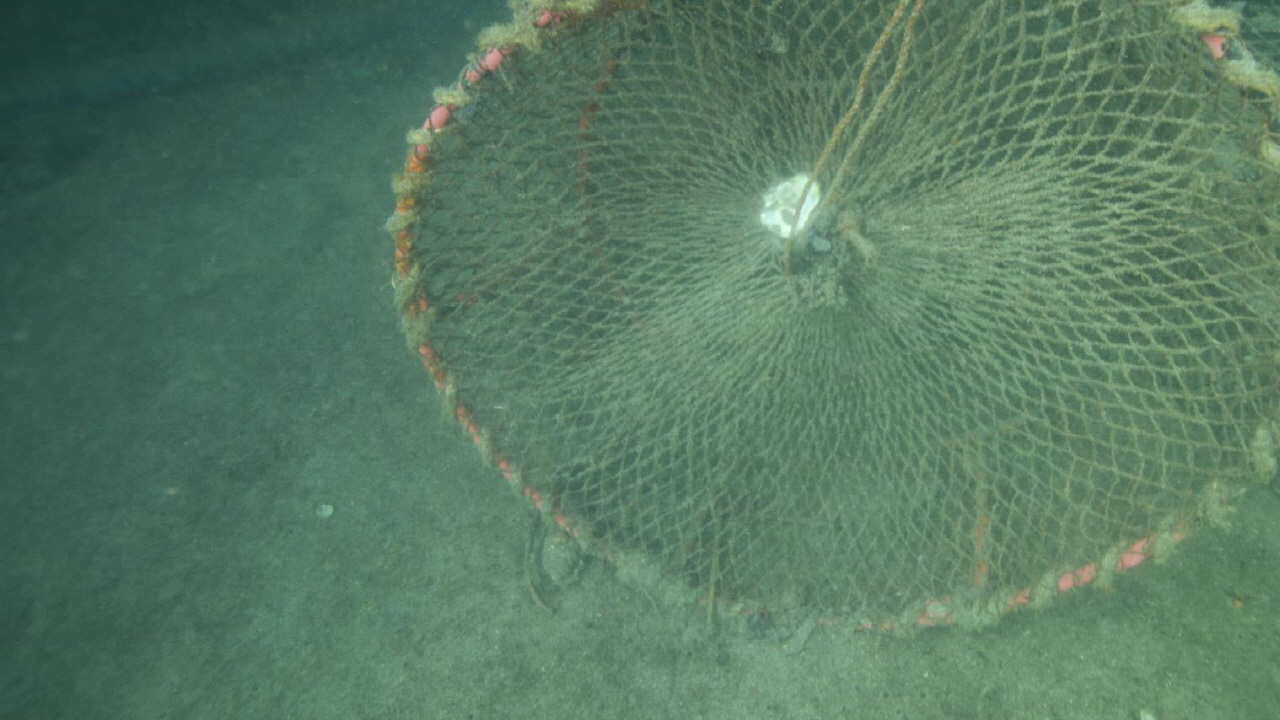circular fish trap: (393, 0, 1280, 634)
